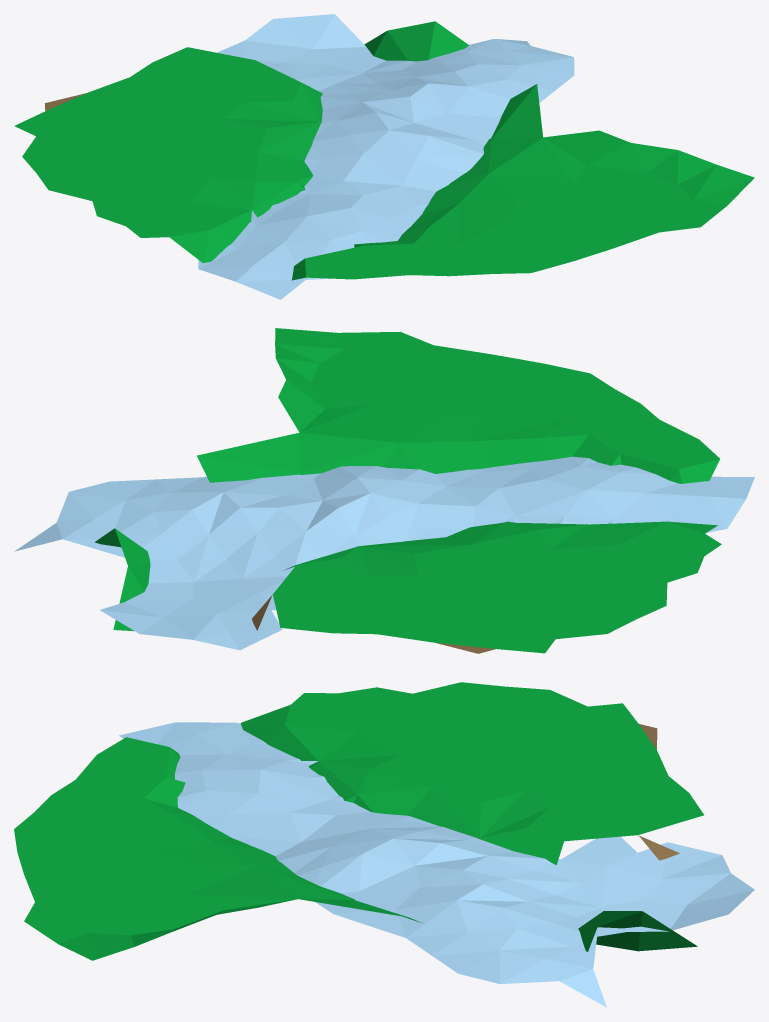
File: Rand01_Plane.fbx
The picture shows the model from 3 angles, top to bottom: view 1: azimuth 30°, elevation 25°; view 2: azimuth 150°, elevation 25°; view 3: azimuth 270°, elevation 25°; orthographic projection. The views are drawn at different scales.
Visible parts, largest first — view 1: Plane.001; view 2: Plane.001; view 3: Plane.001.
Boxes of the visible parts, box(x1,y1,x2,y2) form: Plane.001: box(14, 14, 754, 299); Plane.001: box(14, 328, 754, 653); Plane.001: box(14, 682, 754, 1007).
Bounding box in the file's own units: 1991 × 266 × 2154.
